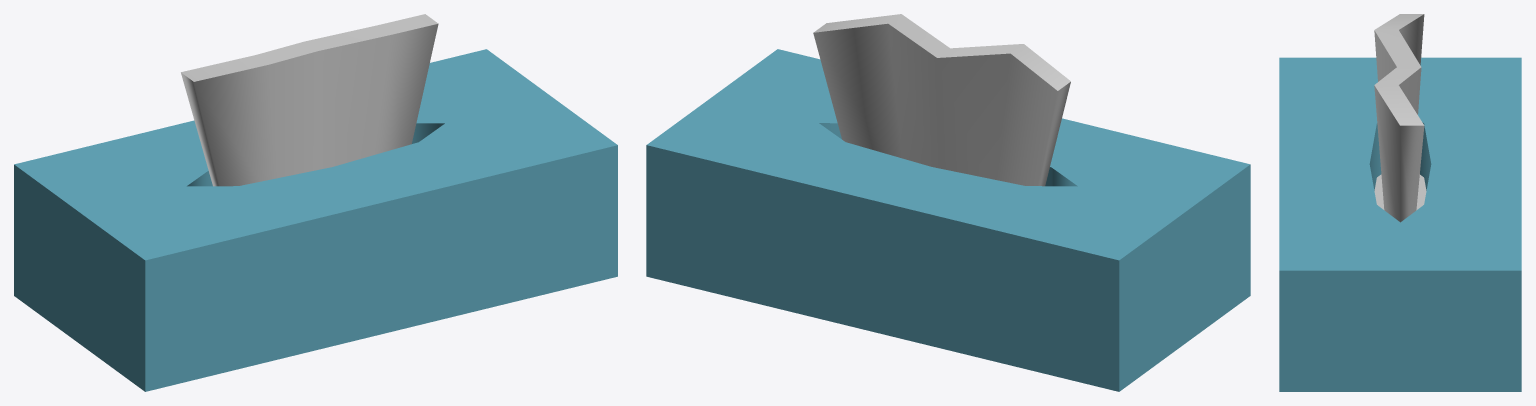
File: SM_Tissuebox_001.fbx
The picture shows the model from 3 angles, left to right: view 1: azimuth 30°, elevation 25°; view 2: azimuth 150°, elevation 25°; view 3: azimuth 270°, elevation 25°; orthographic projection. The views are drawn at different scales.
Parts seen in each view (by area): view 1: Tissuebox; view 2: Tissuebox; view 3: Tissuebox.
Boxes of the visible parts, x1,y1,x2,y2 form: Tissuebox: (14,14,617,391); Tissuebox: (646,14,1250,391); Tissuebox: (1279,14,1521,391).
Size of the model in its own units: 0.1576 by 0.0787 by 0.0758.
